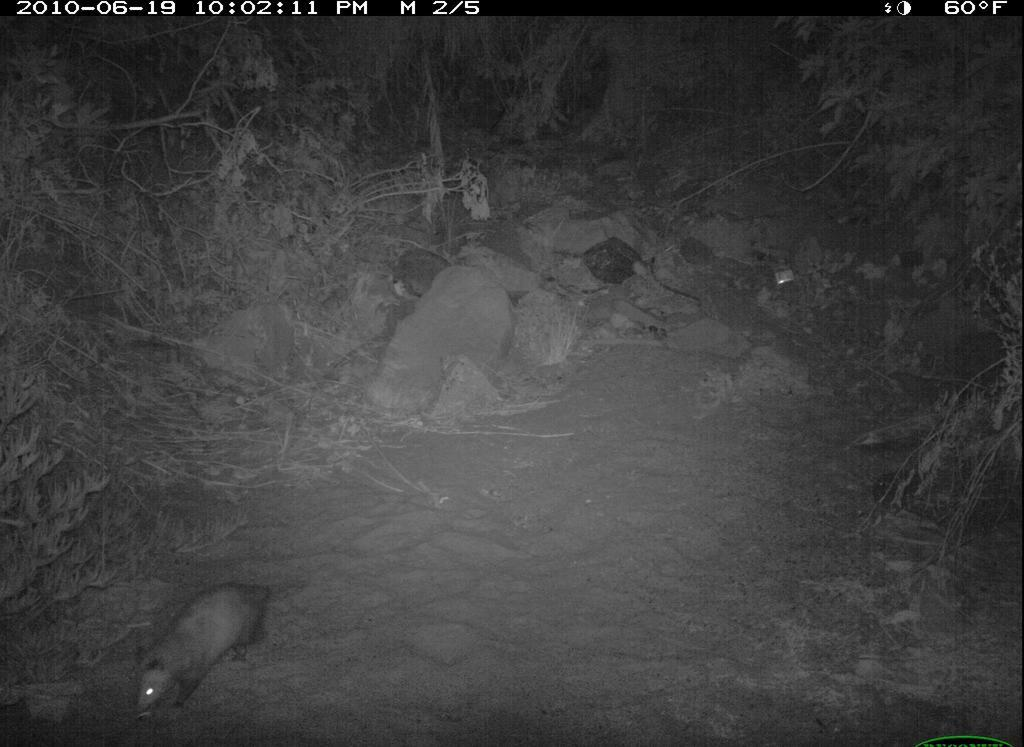opossum: (123, 571, 329, 725)
